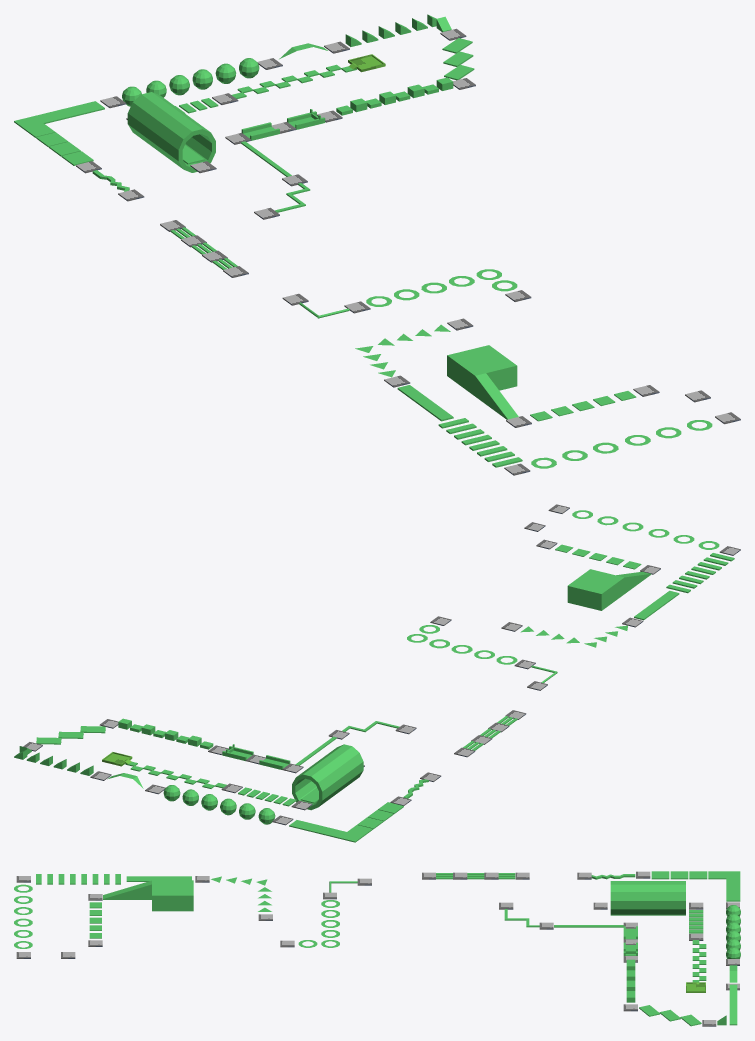
File: obby.glb
The picture shows the model from 3 angles, top to bottom: view 1: azimuth 30°, elevation 25°; view 2: azimuth 150°, elevation 25°; view 3: azimuth 270°, elevation 25°; orthographic projection. The views are drawn at different scales.
Parts seen in each view (by area): view 1: object 1; view 2: object 1; view 3: object 1.
Part boxes in pixels (x1,y1,x2,y2): object 1: (14, 14, 712, 468); object 1: (14, 510, 734, 842); object 1: (14, 871, 740, 1026).
Size of the model in its own units: 21.5 by 2 by 42.72.
Materials: 3 (3 with a texture image).
